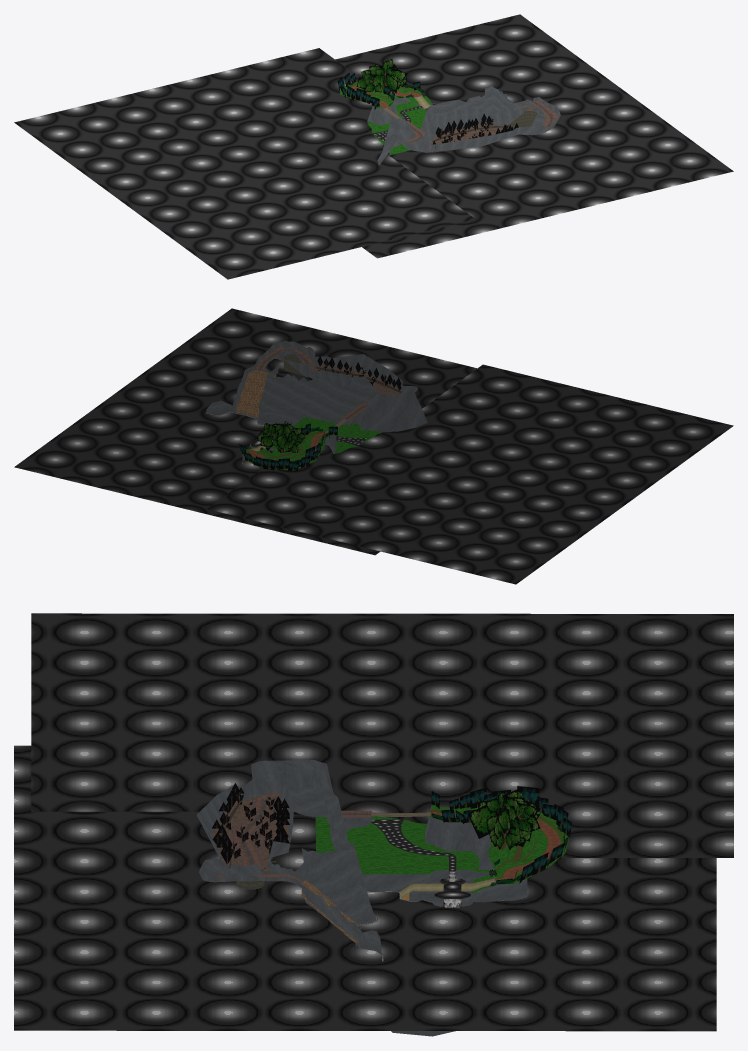
3 renders of one model, top to bottom at view 1: azimuth 30°, elevation 25°; view 2: azimuth 150°, elevation 25°; view 3: azimuth 270°, elevation 25°, orthographic. The views are drawn at different scales.
Visible parts, largest first — view 1: course_exploded_SKP__water.001___mat_sea1, course_exploded_SKP__water___mat_sea2, course_exploded_SKP__wall_mountain___wall_mountain, course_exploded_SKP__offroad_gruen___offroad_gruen, course_exploded_SKP__blatt_gruen___blatt_gruen, course_exploded_SKP__farn___farn, course_exploded_SKP__road1___road1, course_exploded_SKP__offroad_lila___offroad_lila, course_exploded_SKP__tree_deko_lila___tree_deko_lila; view 2: course_exploded_SKP__water.001___mat_sea1, course_exploded_SKP__water___mat_sea2, course_exploded_SKP__wall_mountain___wall_mountain, course_exploded_SKP__offroad_gruen___offroad_gruen, course_exploded_SKP__farn___farn, course_exploded_SKP__blatt_gruen___blatt_gruen, course_exploded_SKP__road_rock___road_rock, course_exploded_SKP__road1___road1; view 3: course_exploded_SKP__water.001___mat_sea1, course_exploded_SKP__water___mat_sea2, course_exploded_SKP__wall_mountain___wall_mountain, course_exploded_SKP__offroad_gruen___offroad_gruen, course_exploded_SKP__blatt_gruen___blatt_gruen, course_exploded_SKP__farn___farn, course_exploded_SKP__road1___road1, course_exploded_SKP__river___river, course_exploded_SKP__tree_deko_lila___tree_deko_lila, course_exploded_SKP__offroad_lila___offroad_lila, course_exploded_SKP__ast_lila___ast_lila, course_exploded_SKP__road_gruen___road_gruen.
Part boxes in pixels (<box>): course_exploded_SKP__water.001___mat_sea1: <box>14,14,733,279</box>; course_exploded_SKP__water___mat_sea2: <box>411,62,633,142</box>; course_exploded_SKP__wall_mountain___wall_mountain: <box>367,85,560,165</box>; course_exploded_SKP__offroad_gruen___offroad_gruen: <box>339,82,431,154</box>; course_exploded_SKP__blatt_gruen___blatt_gruen: <box>356,59,407,93</box>; course_exploded_SKP__farn___farn: <box>337,73,425,109</box>; course_exploded_SKP__road1___road1: <box>405,100,557,145</box>; course_exploded_SKP__offroad_lila___offroad_lila: <box>421,104,536,151</box>; course_exploded_SKP__tree_deko_lila___tree_deko_lila: <box>432,113,518,147</box>; course_exploded_SKP__water.001___mat_sea1: <box>14,308,733,584</box>; course_exploded_SKP__water___mat_sea2: <box>94,375,286,471</box>; course_exploded_SKP__wall_mountain___wall_mountain: <box>206,340,427,464</box>; course_exploded_SKP__offroad_gruen___offroad_gruen: <box>243,417,382,470</box>; course_exploded_SKP__farn___farn: <box>239,423,337,471</box>; course_exploded_SKP__blatt_gruen___blatt_gruen: <box>256,421,304,453</box>; course_exploded_SKP__road_rock___road_rock: <box>236,370,276,417</box>; course_exploded_SKP__road1___road1: <box>256,347,394,420</box>; course_exploded_SKP__water.001___mat_sea1: <box>14,613,733,1031</box>; course_exploded_SKP__water___mat_sea2: <box>289,878,593,1017</box>; course_exploded_SKP__wall_mountain___wall_mountain: <box>196,760,527,955</box>; course_exploded_SKP__offroad_gruen___offroad_gruen: <box>315,804,569,893</box>; course_exploded_SKP__blatt_gruen___blatt_gruen: <box>467,789,540,849</box>; course_exploded_SKP__farn___farn: <box>431,786,571,886</box>; course_exploded_SKP__road1___road1: <box>207,793,370,883</box>; course_exploded_SKP__river___river: <box>371,819,470,898</box>; course_exploded_SKP__tree_deko_lila___tree_deko_lila: <box>212,783,289,863</box>; course_exploded_SKP__offroad_lila___offroad_lila: <box>212,796,288,871</box>; course_exploded_SKP__ast_lila___ast_lila: <box>222,792,276,858</box>; course_exploded_SKP__road_gruen___road_gruen: <box>431,811,562,880</box>.
Size of the model in its own units: 230438 by 30484 by 174827.
27 materials, 27 textured.
